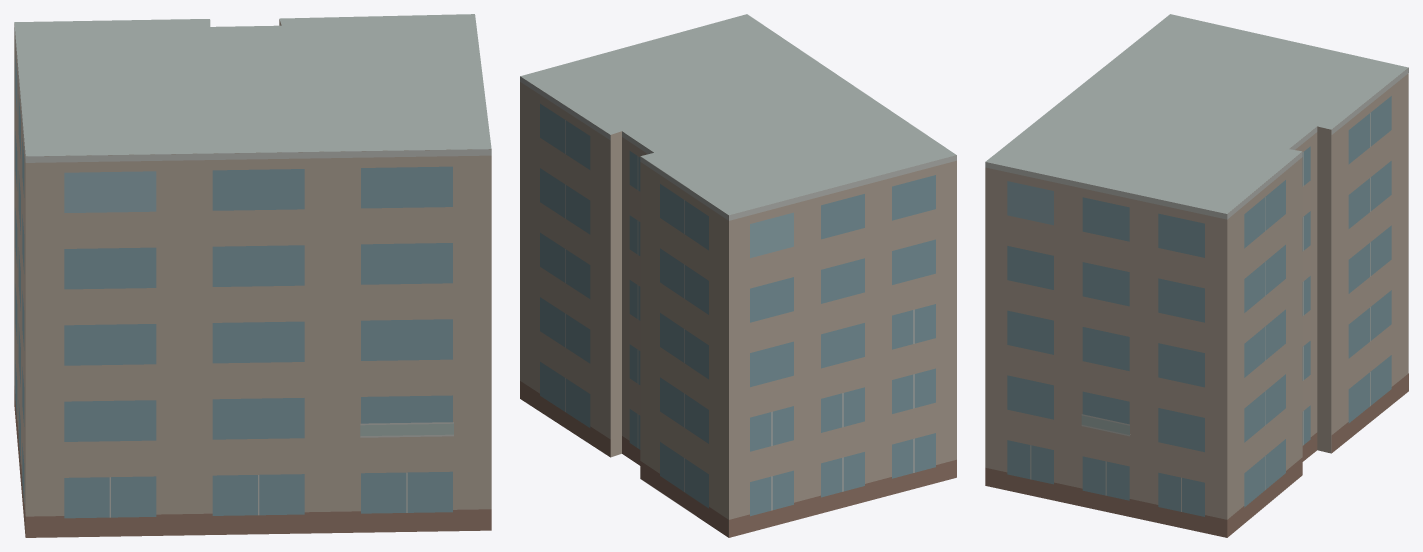
The model's file is survey-upis-32781285.glb.
3 renders of one model, left to right at view 1: azimuth 30°, elevation 25°; view 2: azimuth 150°, elevation 25°; view 3: azimuth 270°, elevation 25°, orthographic. The views are drawn at different scales.
Parts seen in each view (by area): view 1: survey-upis-32781285.tmp; view 2: survey-upis-32781285.tmp; view 3: survey-upis-32781285.tmp.
Boxes of the visible parts, x1,y1,x2,y2 form: survey-upis-32781285.tmp: [14, 14, 491, 537]; survey-upis-32781285.tmp: [520, 14, 956, 537]; survey-upis-32781285.tmp: [985, 14, 1408, 537].
Size of the model in its own units: 18.82 by 14.2 by 16.84.
